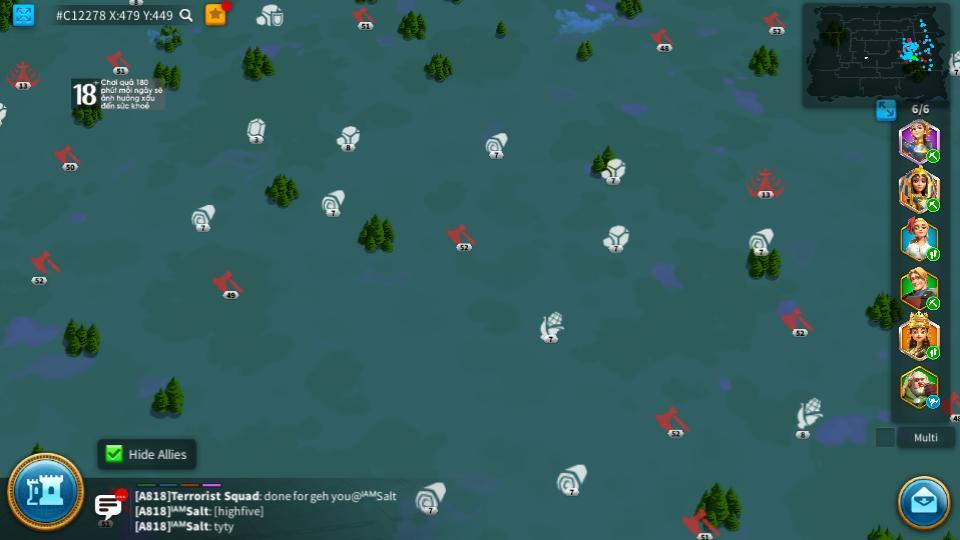gem-z-out: (245, 118, 267, 143), (339, 126, 359, 147)
march_attacking: (948, 410, 959, 421)
march_idle: (925, 394, 941, 408)
march_marching: (925, 197, 941, 212), (925, 347, 942, 359), (925, 150, 942, 162), (923, 248, 940, 260), (925, 297, 942, 308)
